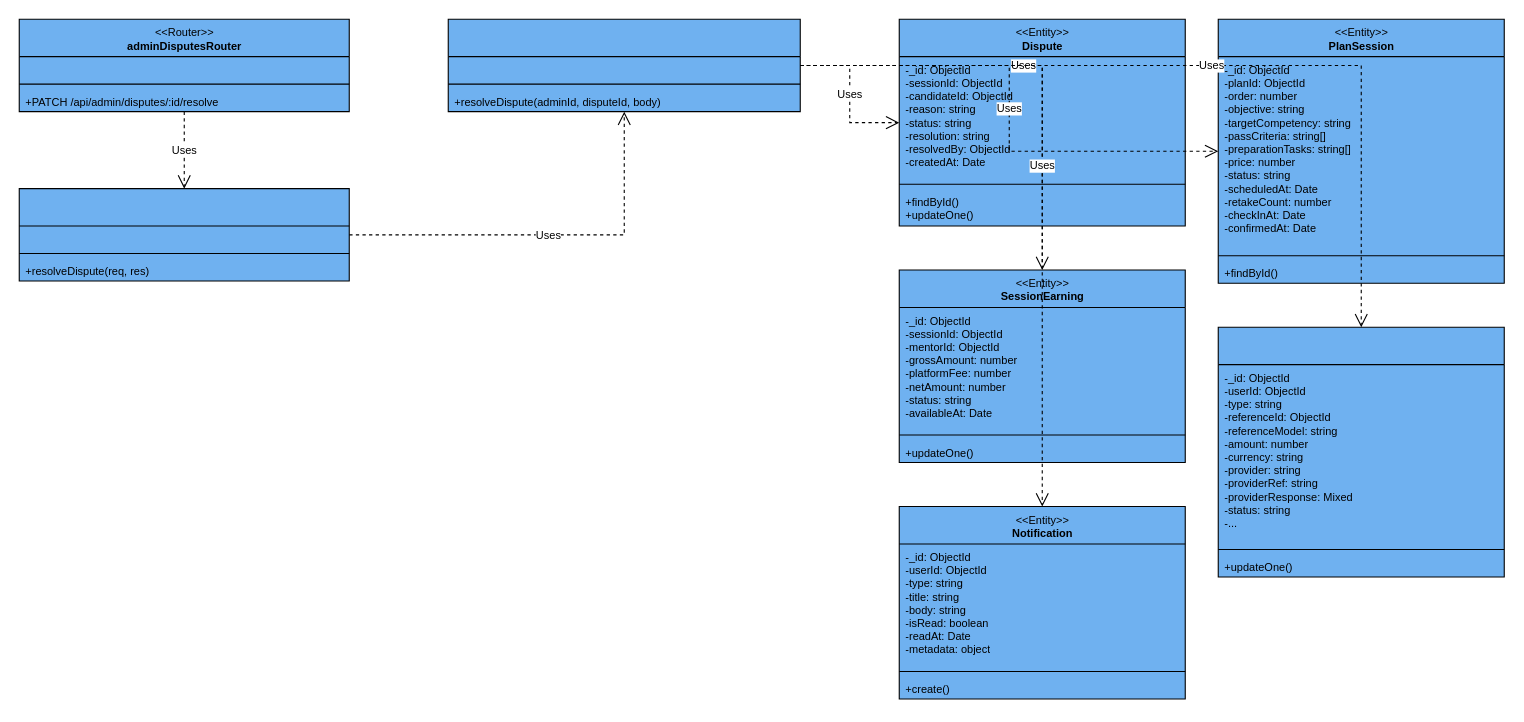
Some shapes in this 1524 by 722 pixel diagram are drawn without their labels. The shapes that lost their labels are listed below. From the top down, each one's box as (x1, y1, x2, y2) in pixels, then its label:
(447, 18, 800, 112): <<Service>> DisputesService
(18, 188, 349, 281): <<Controller>> AdminDisputesController
(1217, 326, 1504, 577): <<Entity>> Payment
